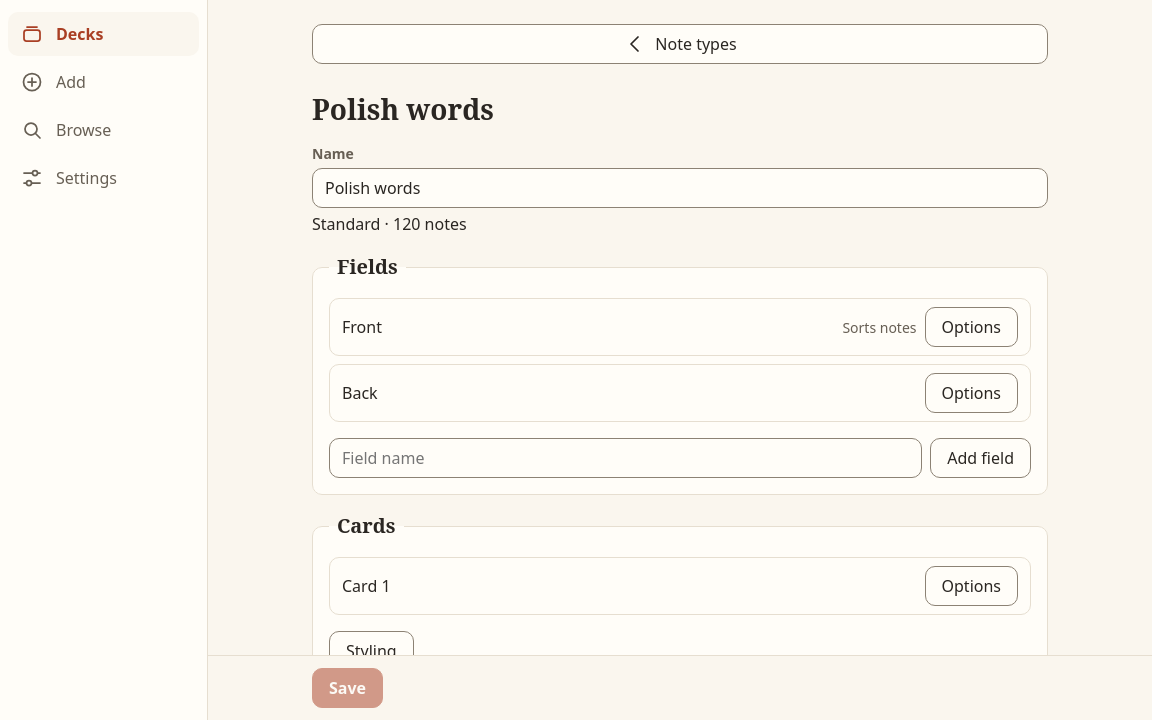
the template box › opens on the card's front with the keyboard helpers off
expect the field labelled "Name" is shown: met, box [312,168,1048,208]
Click the button with aria-label "Options for Card 1" at [971, 586], box [924,566,1018,606]
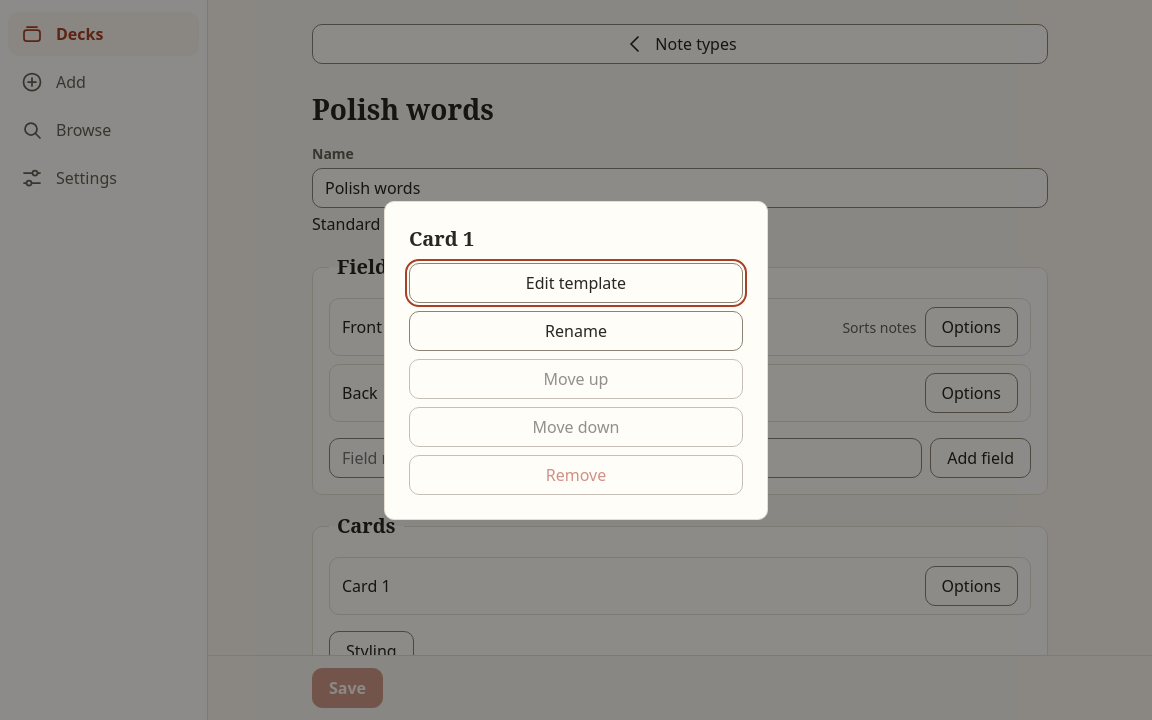
Click the button "Edit template" at [576, 282], box [409,262,743,302]
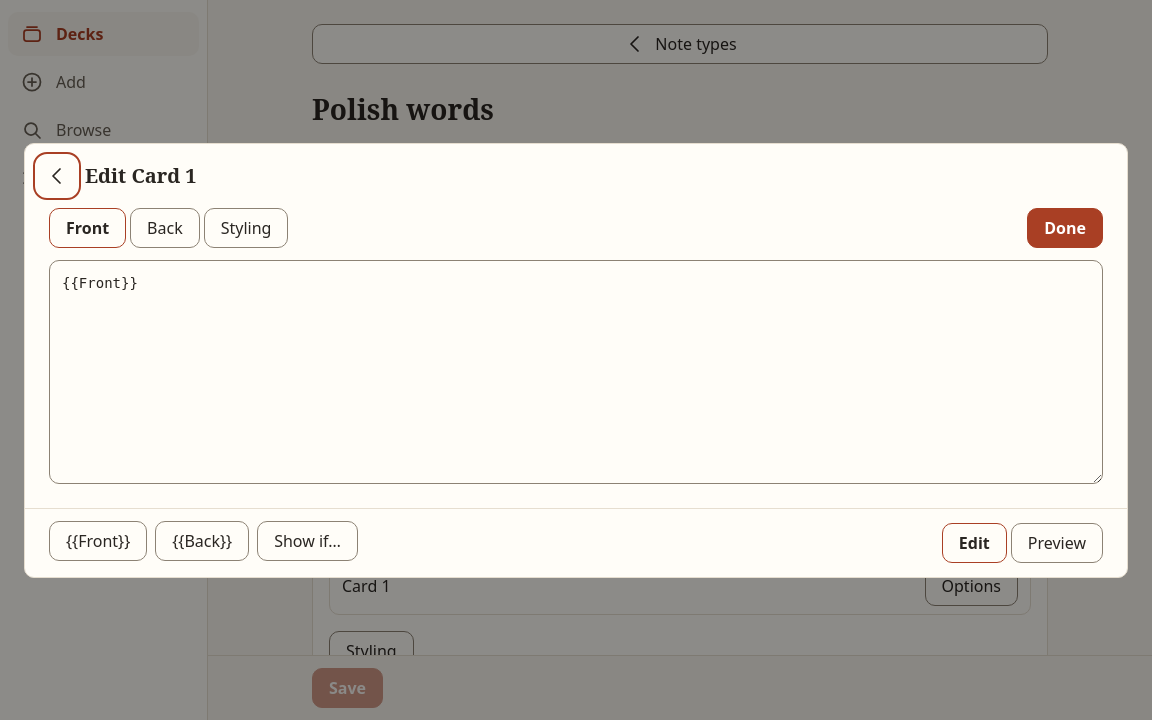
expect the text box named "Front template" holds "{{Front}}": met, box [49,260,1103,484]
